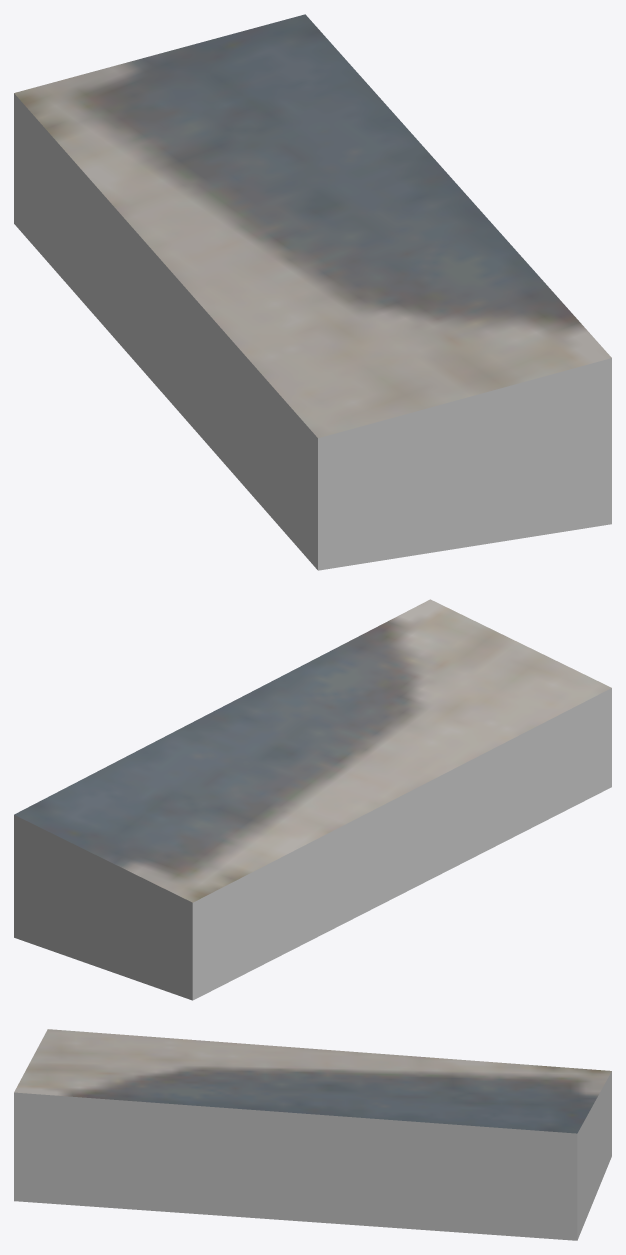
The model's file is DEBW_0010007Tx6g.gltf.
3 renders of one model, top to bottom at view 1: azimuth 30°, elevation 25°; view 2: azimuth 150°, elevation 25°; view 3: azimuth 270°, elevation 25°, orthographic. The views are drawn at different scales.
Parts seen in each view (by area): view 1: Z_UP; view 2: Z_UP; view 3: Z_UP.
Part boxes in pixels (x1,y1,x2,y2): Z_UP: [14, 14, 611, 570]; Z_UP: [14, 599, 611, 1000]; Z_UP: [14, 1029, 611, 1240].
Size of the model in its own units: 7.54 by 3.05 by 15.22.
Materials: 2 (1 with a texture image).
